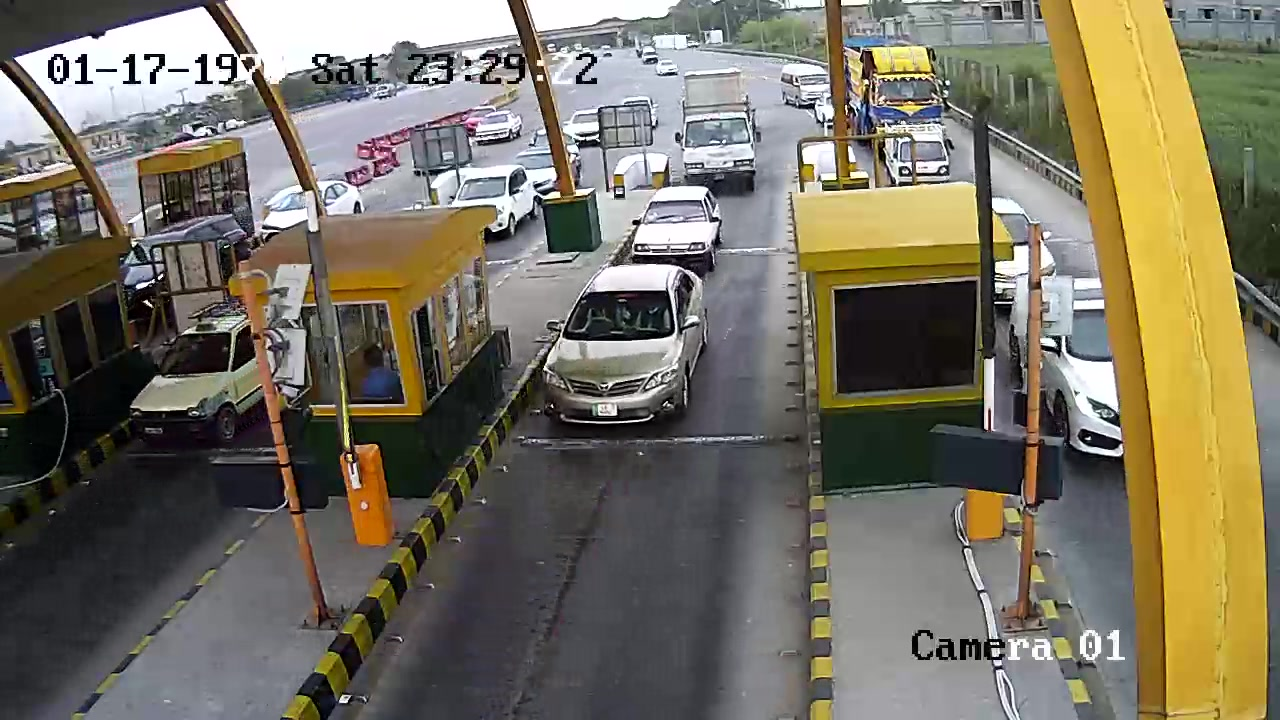F1: (534, 256, 710, 441)
